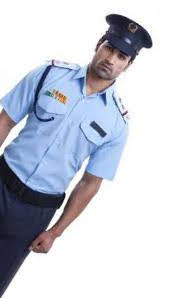uniform: (23, 1, 159, 238)
